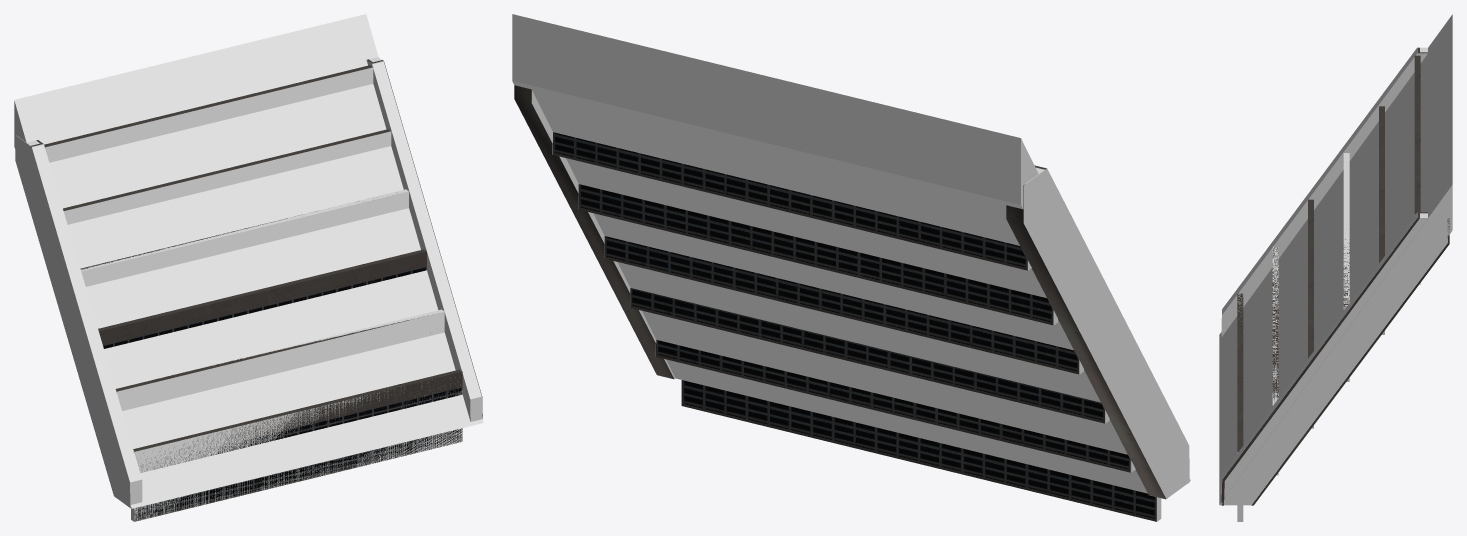
File: blade_stairs.glb
3 renders of one model, left to right at view 1: azimuth 30°, elevation 25°; view 2: azimuth 150°, elevation 25°; view 3: azimuth 270°, elevation 25°, orthographic. The views are drawn at different scales.
Visible parts, largest first — view 1: c_convex_mover, g_alpha_shadow, g_steps, dm_sheet_metal; view 2: c_convex_mover, g_steps, dm_sheet_metal; view 3: c_convex_mover, dm_sheet_metal, g_steps.
Boxes of the visible parts, x1=… form: c_convex_mover: x1=14, y1=14, x2=483, y2=508; g_alpha_shadow: x1=44, y1=67, x2=462, y2=521; g_steps: x1=31, y1=59, x2=482, y2=521; dm_sheet_metal: x1=15, y1=57, x2=482, y2=521; c_convex_mover: x1=512, y1=14, x2=1190, y2=493; g_steps: x1=514, y1=85, x2=1165, y2=521; dm_sheet_metal: x1=531, y1=90, x2=1189, y2=521; c_convex_mover: x1=1219, y1=14, x2=1452, y2=505; dm_sheet_metal: x1=1221, y1=47, x2=1447, y2=521; g_steps: x1=1221, y1=47, x2=1449, y2=505.
Size of the model in its own units: 1.75 by 1.64 by 1.01.
Materials: 3 (2 with a texture image).
